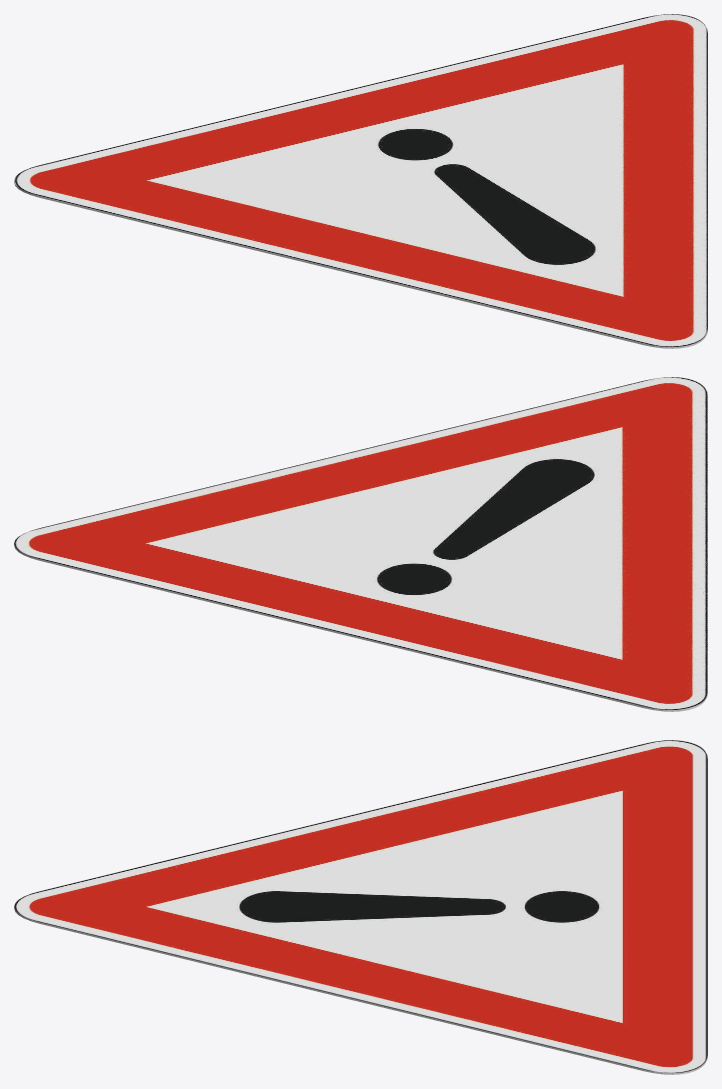
Rendered from dreieckig_oben_sl900.obj.
3 renders of one model, top to bottom at view 1: azimuth 30°, elevation 25°; view 2: azimuth 150°, elevation 25°; view 3: azimuth 270°, elevation 25°, orthographic.
Parts seen in each view (by area): view 1: Plane; view 2: Plane; view 3: Plane.
Boxes of the visible parts, x1,y1,x2,y2 form: Plane: (14,14,707,348); Plane: (14,377,707,711); Plane: (14,740,707,1074).
Size of the model in its own units: 0.8393 by 0.002 by 0.7391.
1 material, 1 textured.
